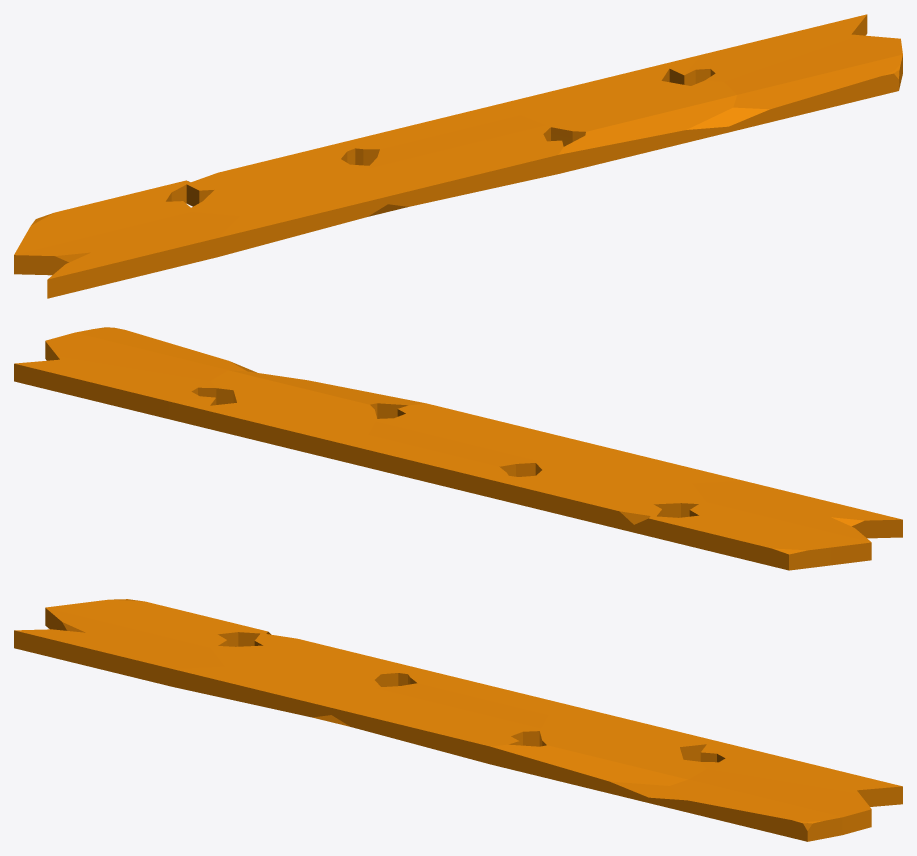
File: Rotten wood_6.fbx
3 views of the same model, one above another, from view 1: azimuth 30°, elevation 25°; view 2: azimuth 150°, elevation 25°; view 3: azimuth 330°, elevation 25° (orthographic). The views are drawn at different scales.
Visible parts, largest first — view 1: Cube.061; view 2: Cube.061; view 3: Cube.061.
Boxes of the visible parts, x1,y1,x2,y2 form: Cube.061: (14,14,902,298); Cube.061: (14,327,902,570); Cube.061: (14,599,902,841).
Bounding box in the file's own units: 99.99 × 2.07 × 13.07.
